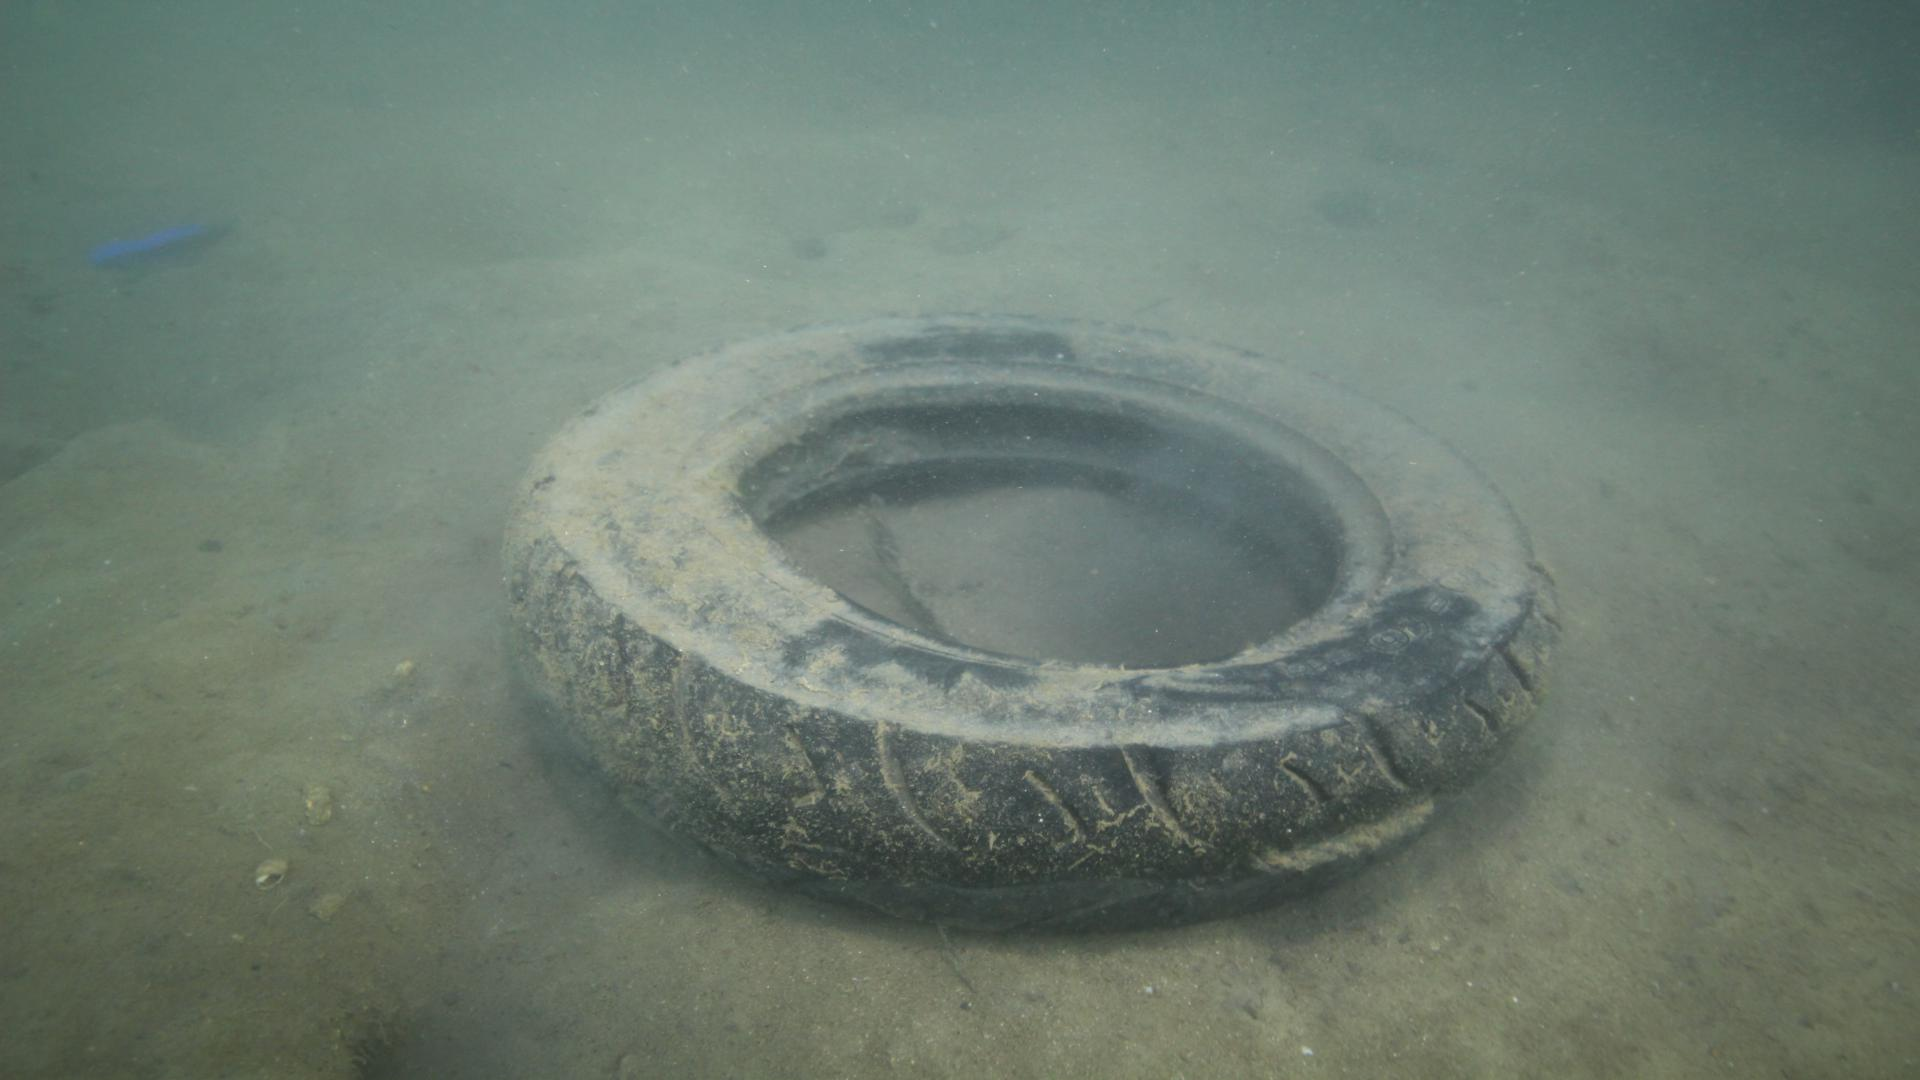rope: (866, 495, 963, 647)
tire: (501, 310, 1568, 940)
